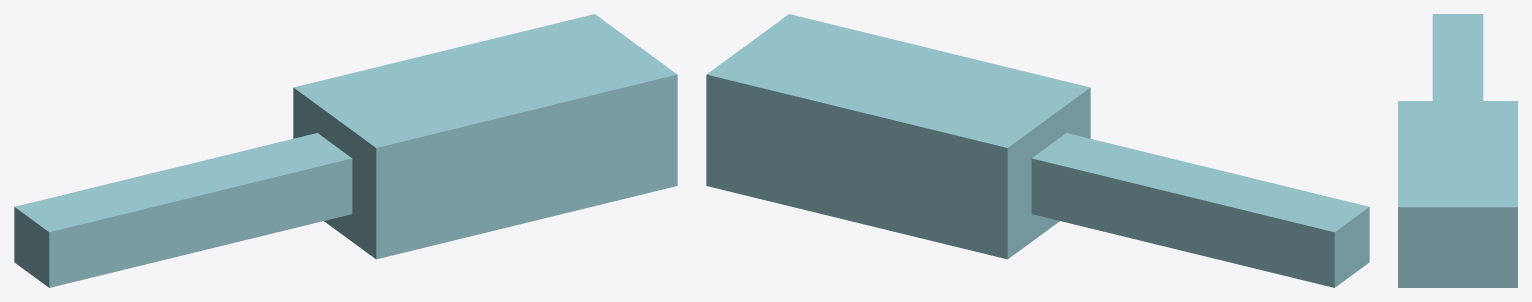
Rendered from cuboid_brush_v8009.obj.
3 views of the same model, side by side, from view 1: azimuth 30°, elevation 25°; view 2: azimuth 150°, elevation 25°; view 3: azimuth 270°, elevation 25° (orthographic). The views are drawn at different scales.
Bounding box in the file's own units: 0.1962 × 0.0346 × 0.0465.
Materials: 1 (1 with a texture image).
